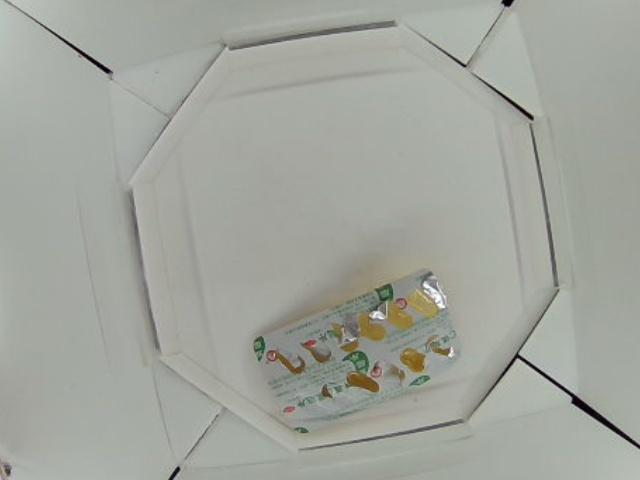Medicine: (244, 268, 458, 434)
